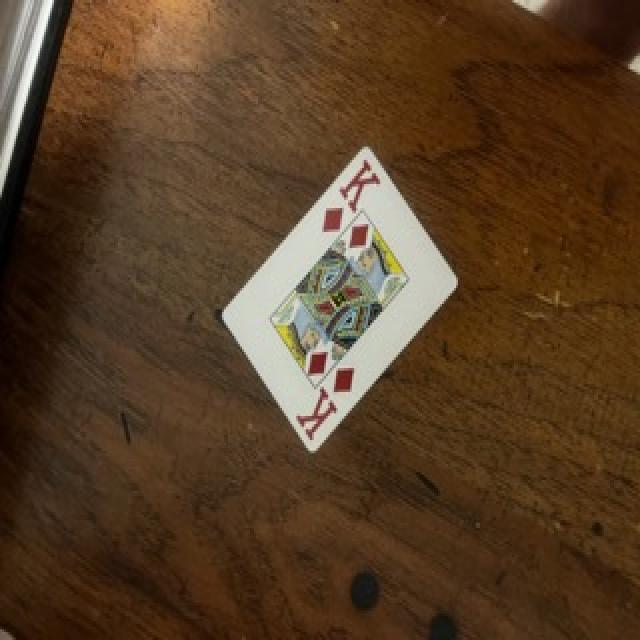King of diamonds: (224, 147, 458, 452)
